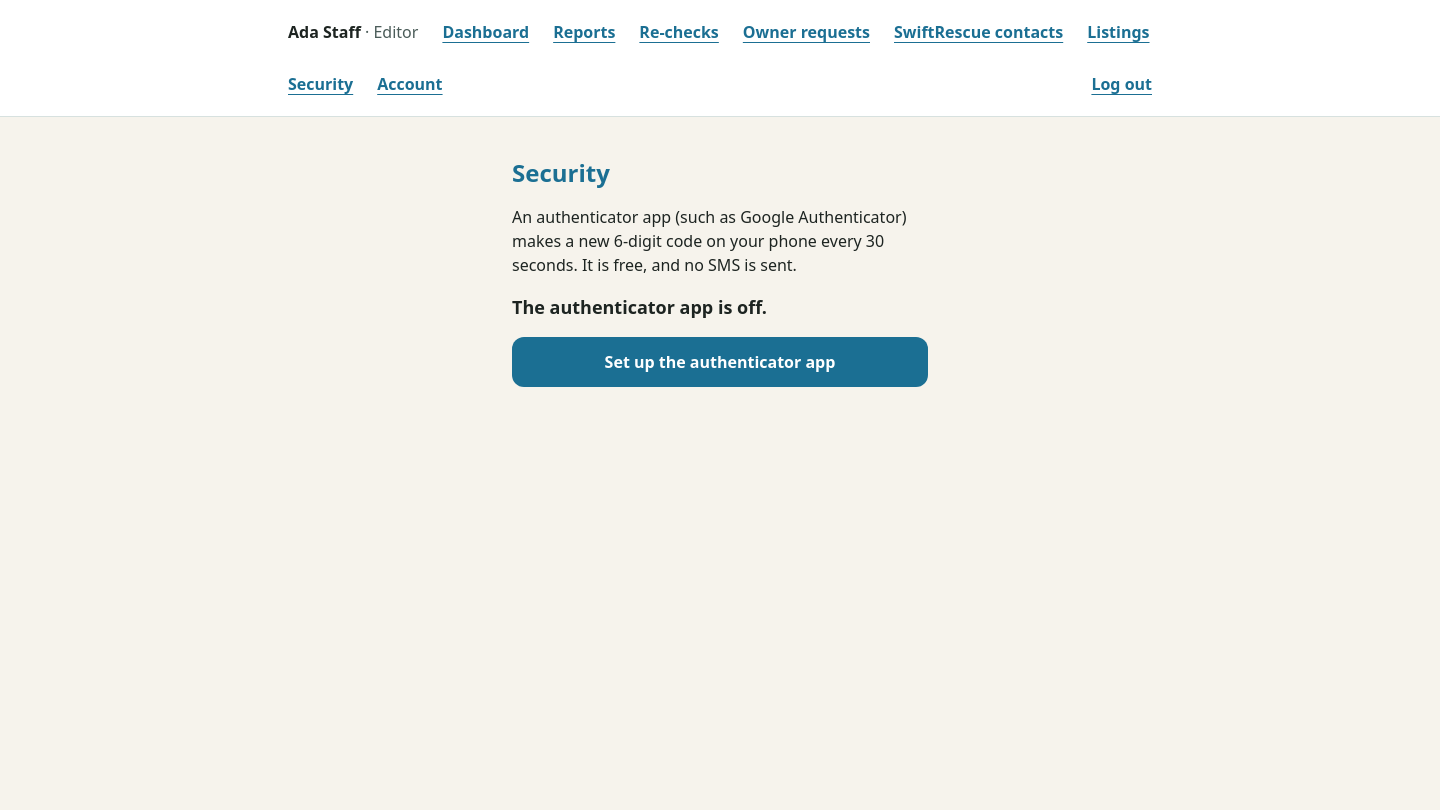
Test case: switching it on › on 403 when starting says: The password is not right.
The width and height of the screenshot is (1440, 810).
Check: the heading "Security" is shown, box [512,156,610,189]
Click the button "Set up the authenticator app". click: (720, 362)
box: [512,337,928,387]
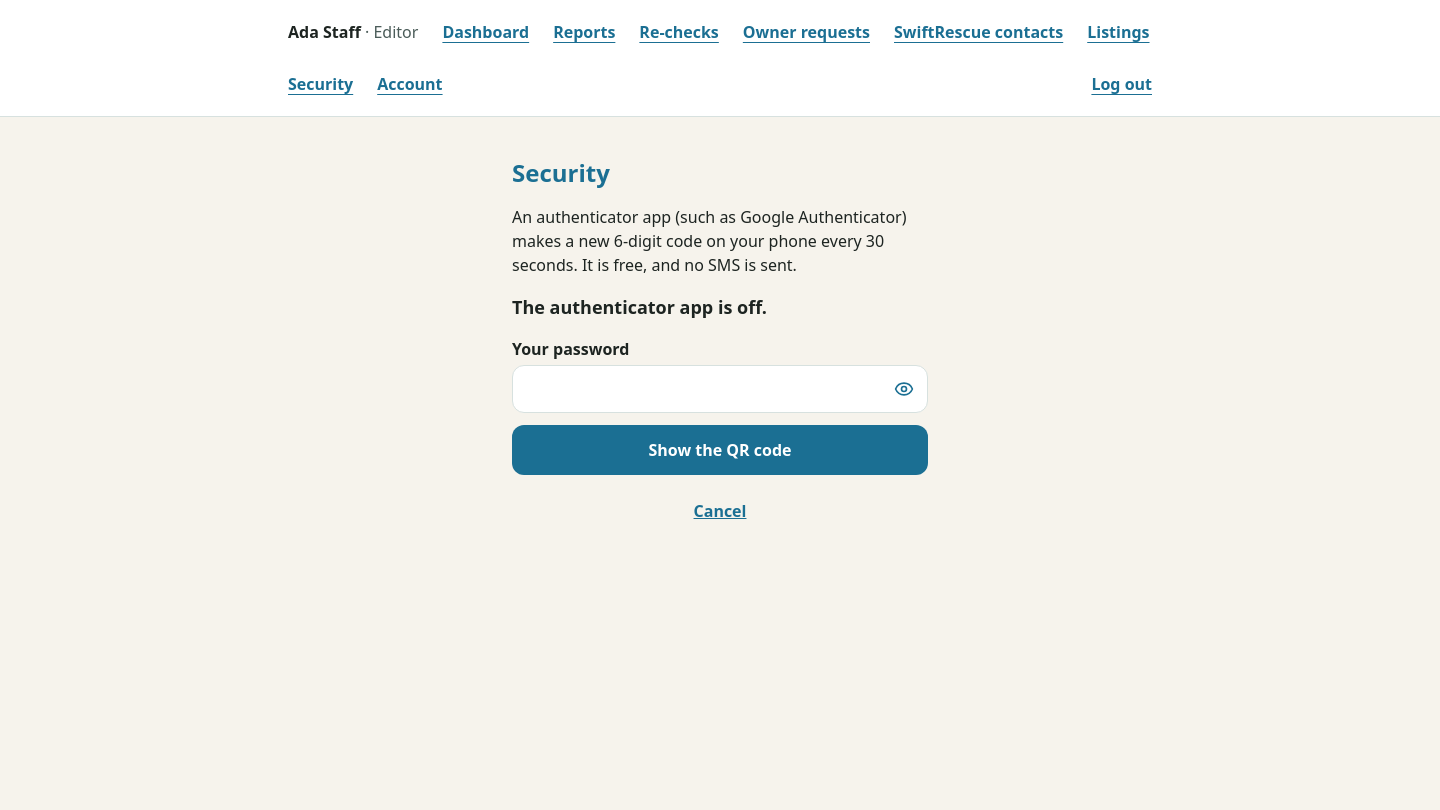
Type "my-password" into the password field labelled "Your password". click: (720, 389)
box: [512,365,928,413]
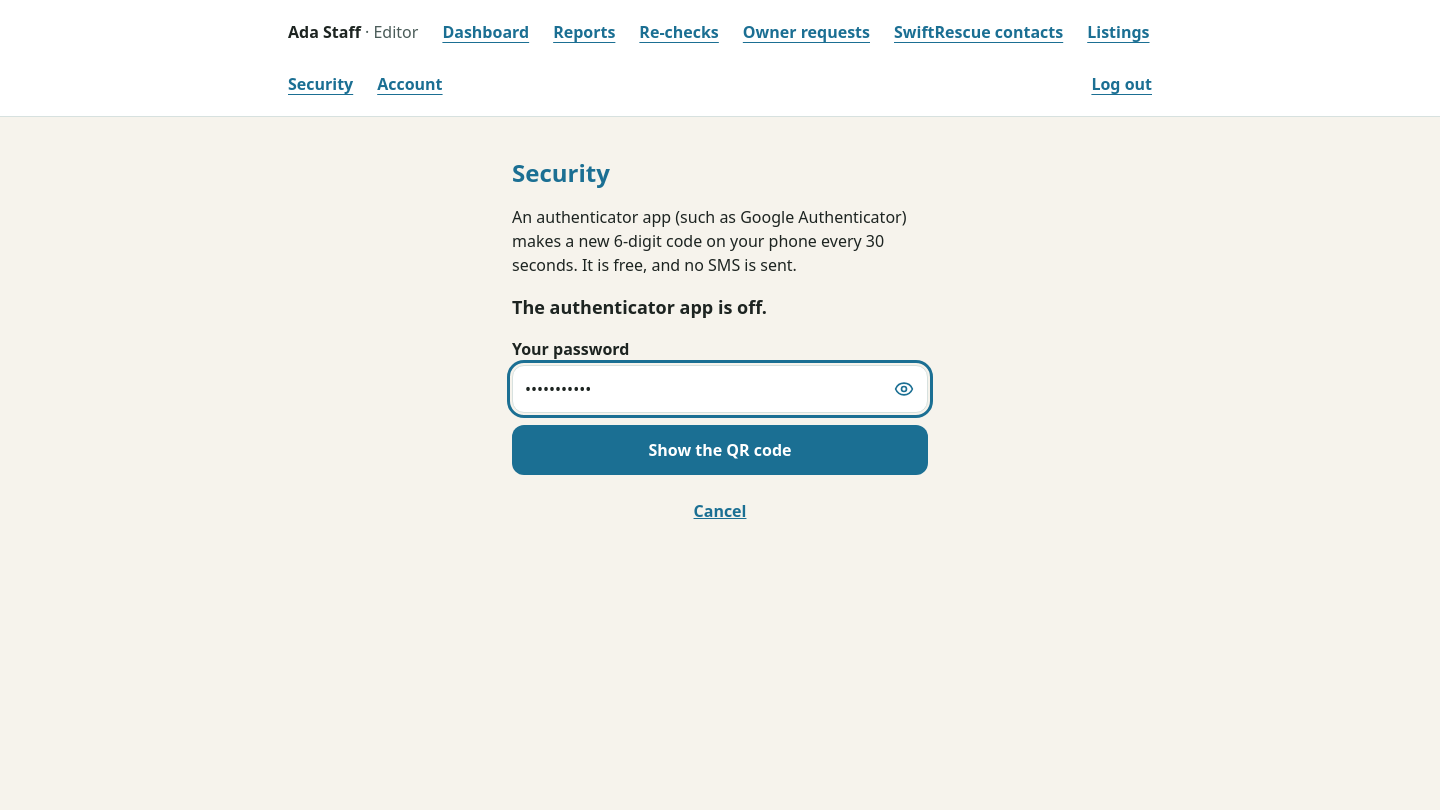
Click the button "Show the QR code". click: (720, 450)
box: [512,425,928,475]
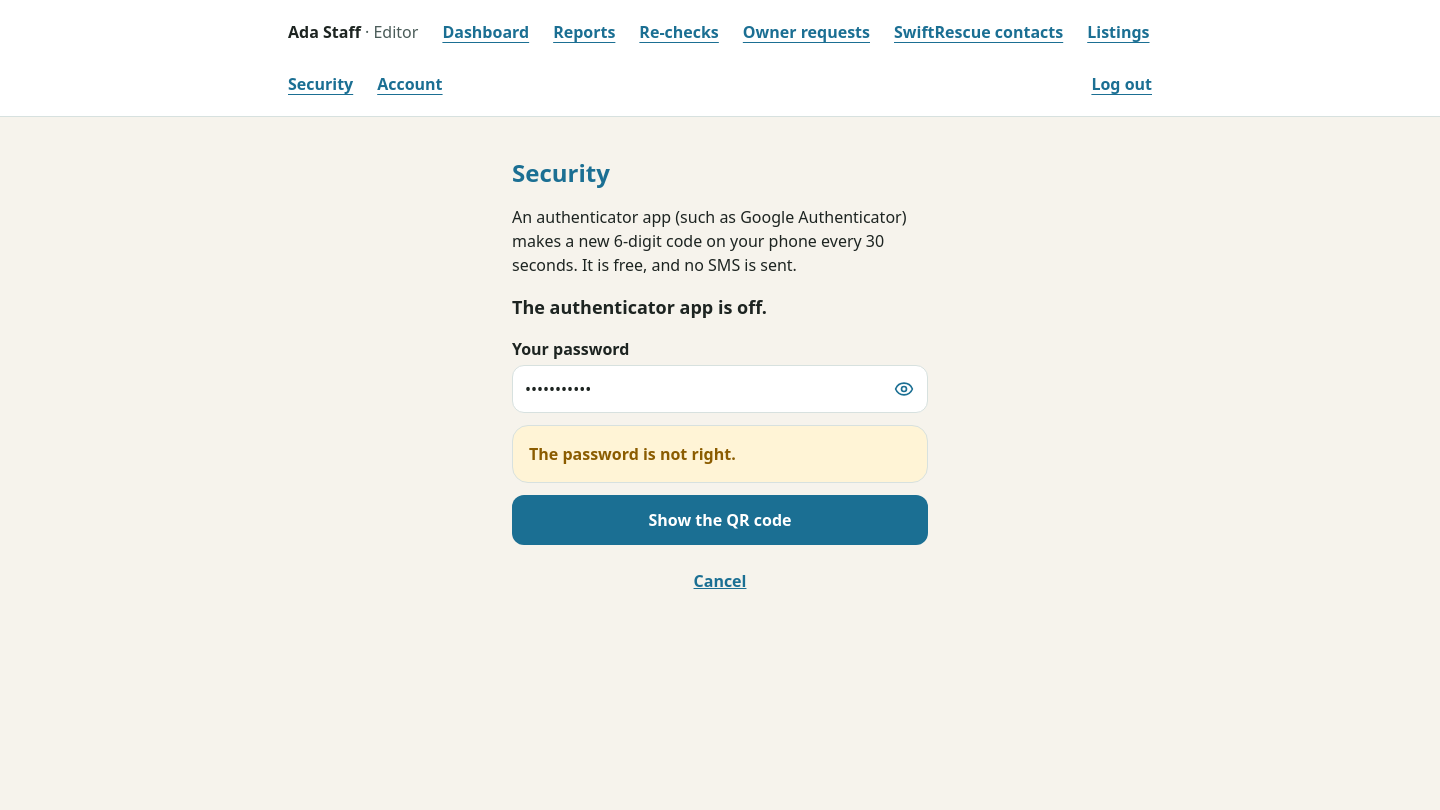
Check: the text "The password is not right." is shown, box [512,425,928,483]
